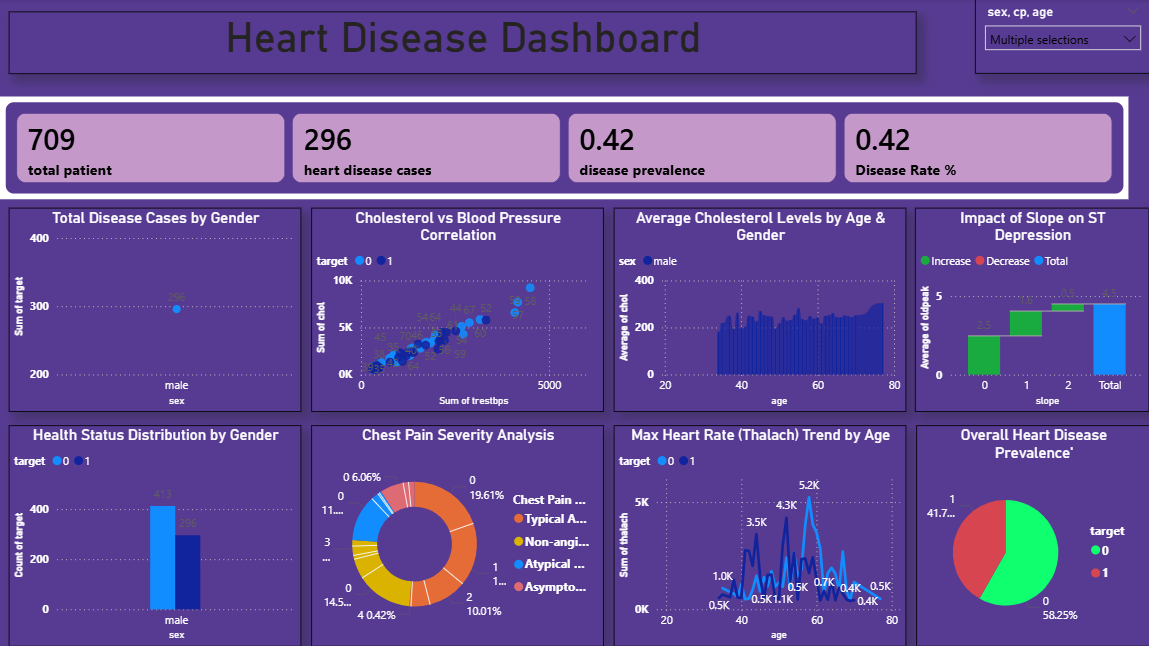

The page's visual inventory and layout, read from the dashboard file:
{"tool":"powerbi","page":{"name":"Page 1","canvas":[1280,720],"ordinal":0},"visuals":[{"type":"cardVisual","fields":{"Data":["heart 2.total patient","heart 2.heart disease cases","heart 2.disease prevalence","heart 2.Disease Rate %"]},"box":[0,108.5,1256.3,114.1],"z":0},{"type":"areaChart","title":"Total Disease Cases by Gender","fields":{"Category":["heart 2.sex"],"Y":["Sum(heart 2.target)"]},"box":[9.7,232.8,325.7,226.8],"z":1000},{"type":"clusteredColumnChart","title":"Health Status Distribution by Gender","fields":{"Category":["heart 2.sex"],"Y":["CountNonNull(heart 2.target)"],"Series":["heart 2.target"]},"box":[9.7,474.1,325.7,246.1],"z":2000},{"type":"scatterChart","title":"Cholesterol vs Blood Pressure Correlation","fields":{"Y":["Sum(heart 2.chol)"],"X":["Sum(heart 2.trestbps)"],"Category":["heart 2.age"],"Series":["heart 2.target"]},"box":[346.2,232.8,325.7,226.8],"z":3000},{"type":"donutChart","title":"Chest Pain Severity Analysis","fields":{"Y":["CountNonNull(heart 2.target)"],"Series":["heart 2.ca"],"Category":["heart 2.Chest Pain Type"]},"box":[346.2,474.1,325.7,246.1],"z":4000},{"type":"ribbonChart","title":"Average Cholesterol Levels by Age & Gender","fields":{"Category":["heart 2.age"],"Series":["heart 2.sex"],"Y":["Avg(heart 2.chol)"]},"box":[682.8,232.8,325.7,226.8],"z":5000},{"type":"lineChart","title":"Max Heart Rate (Thalach) Trend by Age","fields":{"Category":["heart 2.age"],"Y":["Sum(heart 2.thalach)"],"Series":["heart 2.target"]},"box":[682.8,474.1,325.7,246.1],"z":6000},{"type":"waterfallChart","title":"Impact of Slope on ST Depression ","fields":{"Category":["heart 2.slope"],"Y":["Avg(heart 2.oldpeak)"]},"box":[1019,233,261,227],"z":7000},{"type":"pieChart","title":"Overall Heart Disease Prevalence''","fields":{"Category":["heart 2.target"],"Y":["CountNonNull(heart 2.age)"]},"box":[1019.4,474.1,260.6,246.1],"z":8000},{"type":"shape","title":"Heart Disease Dashboard","box":[9.7,13.9,1010.1,69.6],"z":9000},{"type":"slicer","fields":{"Values":["heart 2.sex","heart 2.cp","heart 2.age"]},"box":[1084.6,0,195.4,83.2],"z":10000}]}

Visuals, with their boxes in screenshot pixels (x1, y1, x2, y2), scaled from the page's 1280x720 canvas onto the 1149x646 screenshot:
cardVisual - heart 2.total patient x heart 2.heart disease cases: box(0, 97, 1128, 200)
"Total Disease Cases by Gender" areaChart: box(9, 209, 301, 412)
"Health Status Distribution by Gender" clusteredColumnChart: box(9, 425, 301, 645)
"Cholesterol vs Blood Pressure Correlation" scatterChart: box(311, 209, 603, 412)
"Chest Pain Severity Analysis" donutChart: box(311, 425, 603, 645)
"Average Cholesterol Levels by Age & Gender" ribbonChart: box(613, 209, 905, 412)
"Max Heart Rate (Thalach) Trend by Age" lineChart: box(613, 425, 905, 645)
"Impact of Slope on ST Depression " waterfallChart: box(915, 209, 1148, 413)
"Overall Heart Disease Prevalence''" pieChart: box(915, 425, 1148, 645)
"Heart Disease Dashboard" shape: box(9, 12, 915, 75)
slicer - heart 2.sex x heart 2.cp: box(974, 0, 1148, 75)
